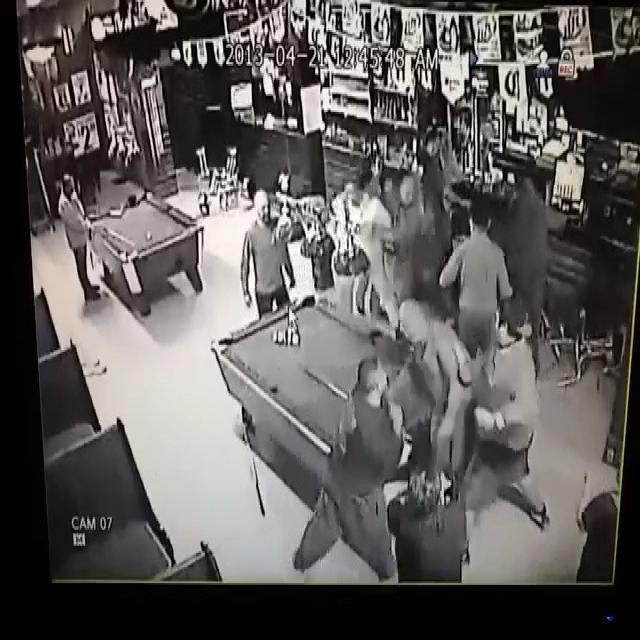fight: (324, 180, 531, 458)
